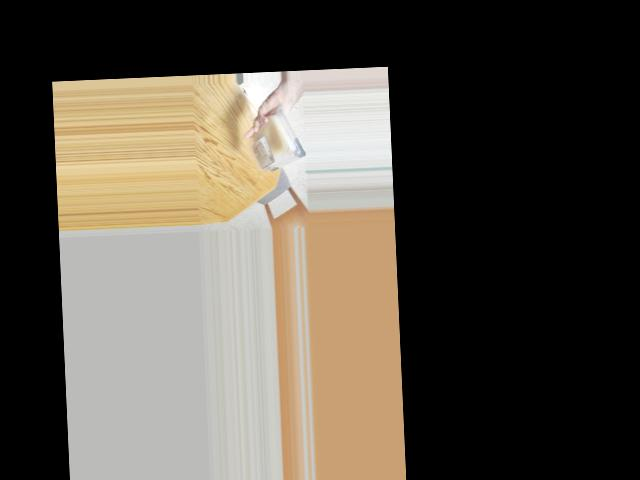cheese: (253, 112, 297, 172)
